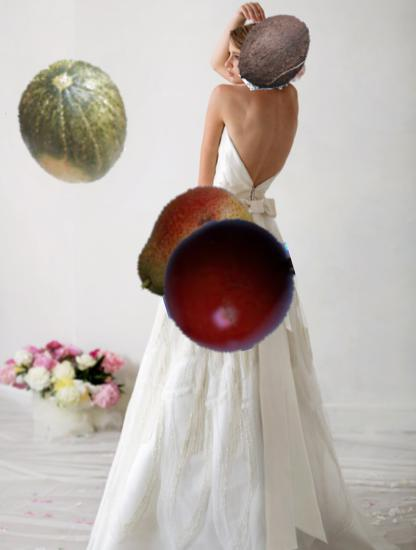Cocos: (233, 11, 317, 95)
Melon: (6, 58, 132, 184)
Pear: (128, 180, 265, 317)
Tamarillo: (162, 219, 296, 353)
